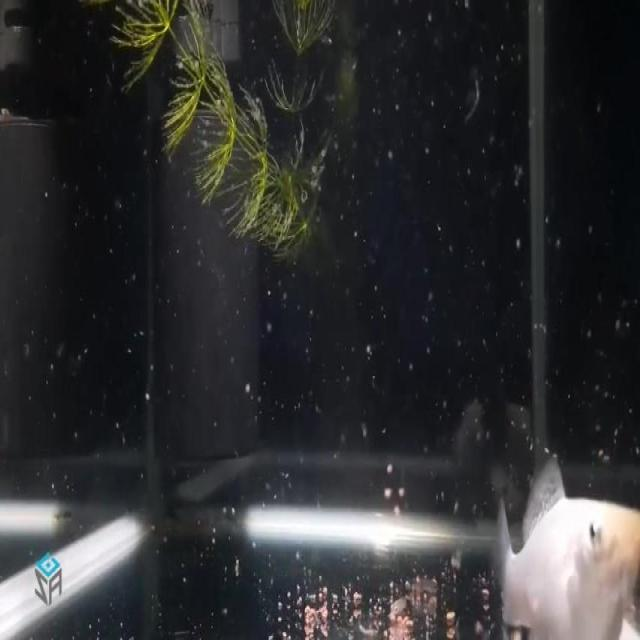PlatyFish: (483, 430, 640, 640)
